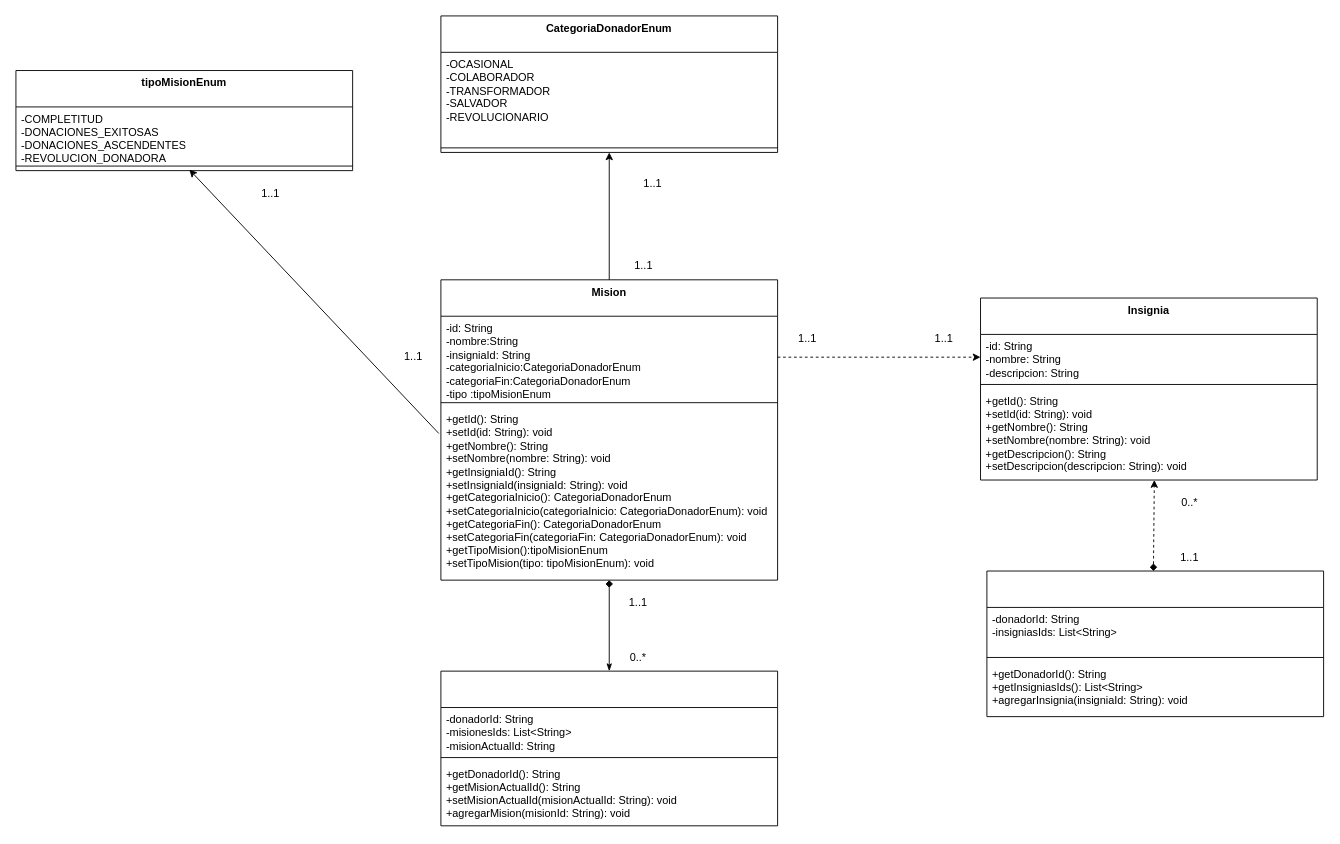
Image size: 1340x844. Some labels were removed from this diagram. Here are the shapes that lost their labels. From the top down, the box of each, then its label:
(986, 570, 1324, 717): InsigniasDeDonador
(440, 670, 778, 826): MisionDeDonador
